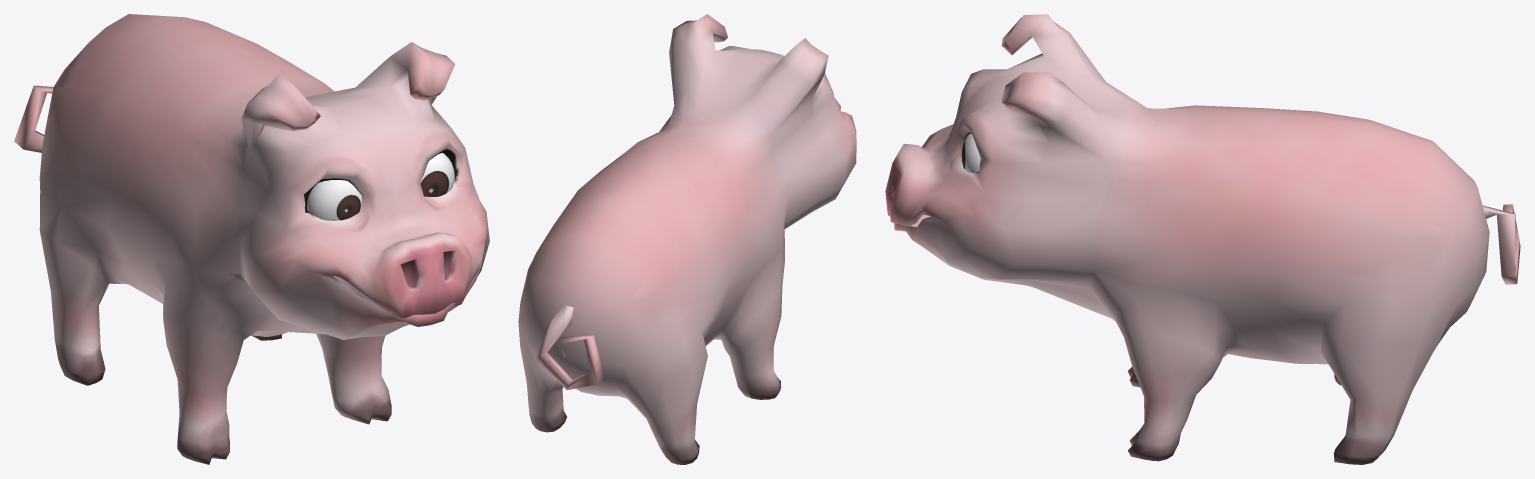
File: biggiepiggy.glb
The picture shows the model from 3 angles, left to right: view 1: azimuth 30°, elevation 25°; view 2: azimuth 150°, elevation 25°; view 3: azimuth 270°, elevation 25°; orthographic projection. The views are drawn at different scales.
Parts seen in each view (by area): view 1: Piggy; view 2: Piggy; view 3: Piggy.
Part boxes in pixels (x1,y1,x2,y2): Piggy: (14,14,489,464); Piggy: (518,14,856,464); Piggy: (885,14,1520,464).
Bounding box in the file's own units: 0.7301 × 1.27 × 1.94.
2 materials, 2 textured.
